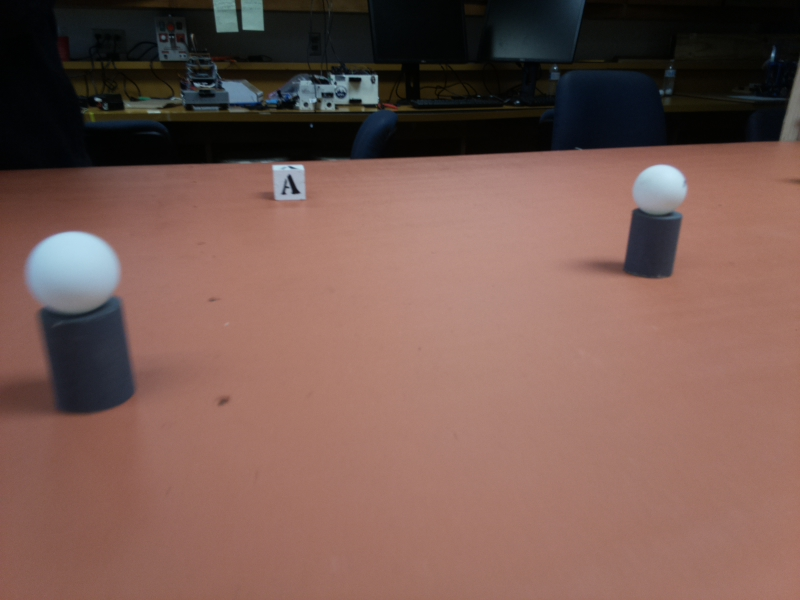blockA: (268, 160, 312, 205)
obstacle: (31, 217, 134, 412), (622, 163, 693, 280)
